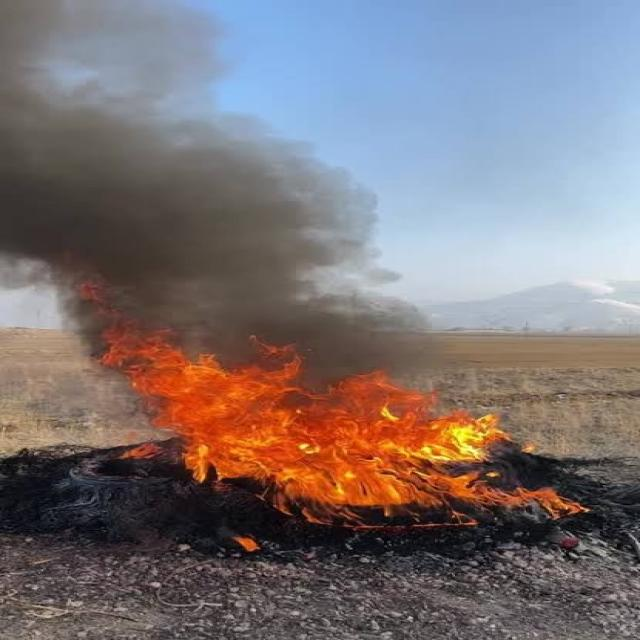fire: (137, 376, 501, 482), (275, 481, 589, 528), (103, 321, 224, 387), (222, 336, 301, 383)
